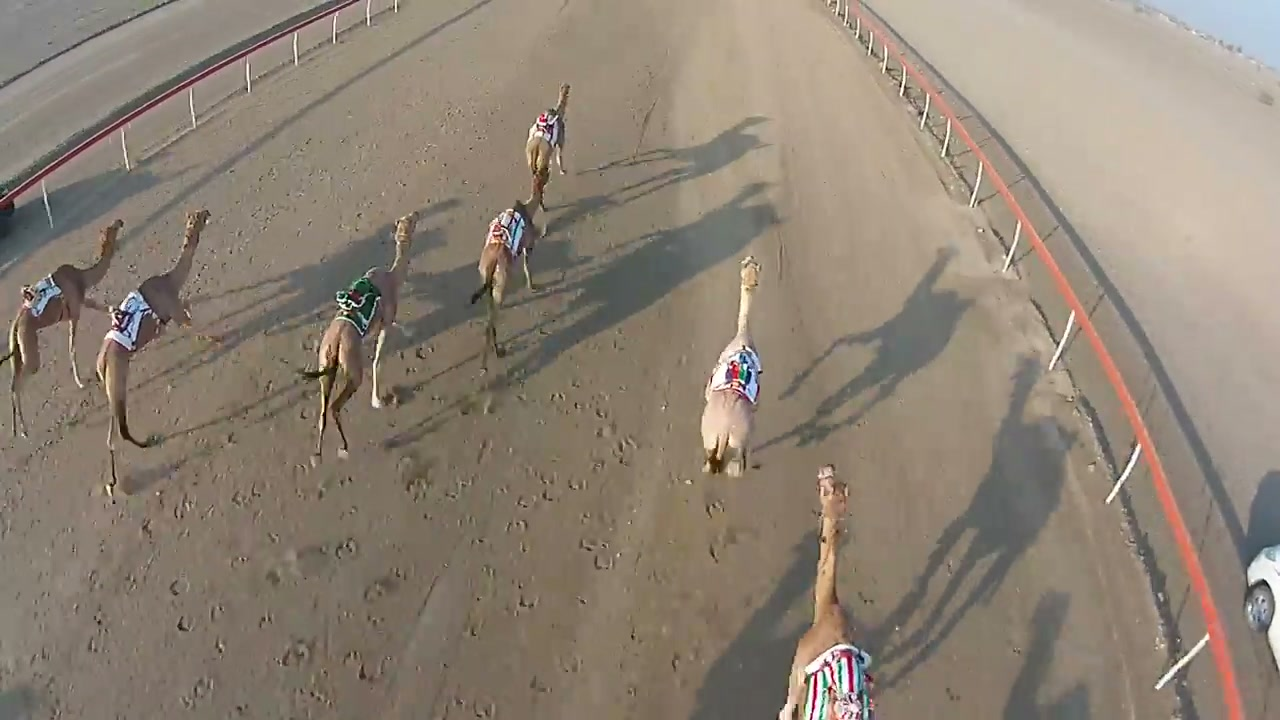animal_footprint: (57, 362, 682, 719)
